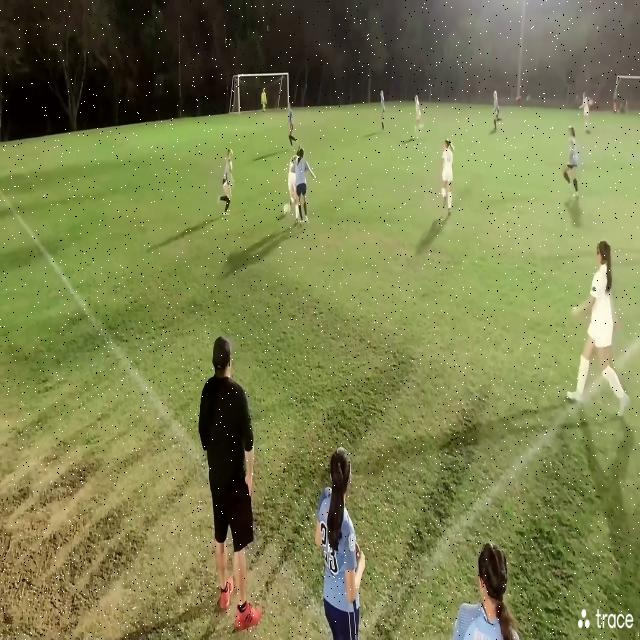Ball: (282, 200, 291, 216)
GoalKeeper: (261, 87, 268, 114)
TEAM 1: (313, 441, 368, 640), (457, 536, 523, 640), (295, 148, 316, 225), (562, 125, 580, 196), (492, 90, 504, 134), (378, 90, 389, 134), (287, 104, 297, 152)
TEAM 2: (569, 241, 616, 411), (289, 152, 305, 227), (442, 140, 456, 212), (220, 150, 233, 217), (581, 94, 594, 137), (415, 94, 424, 133)
